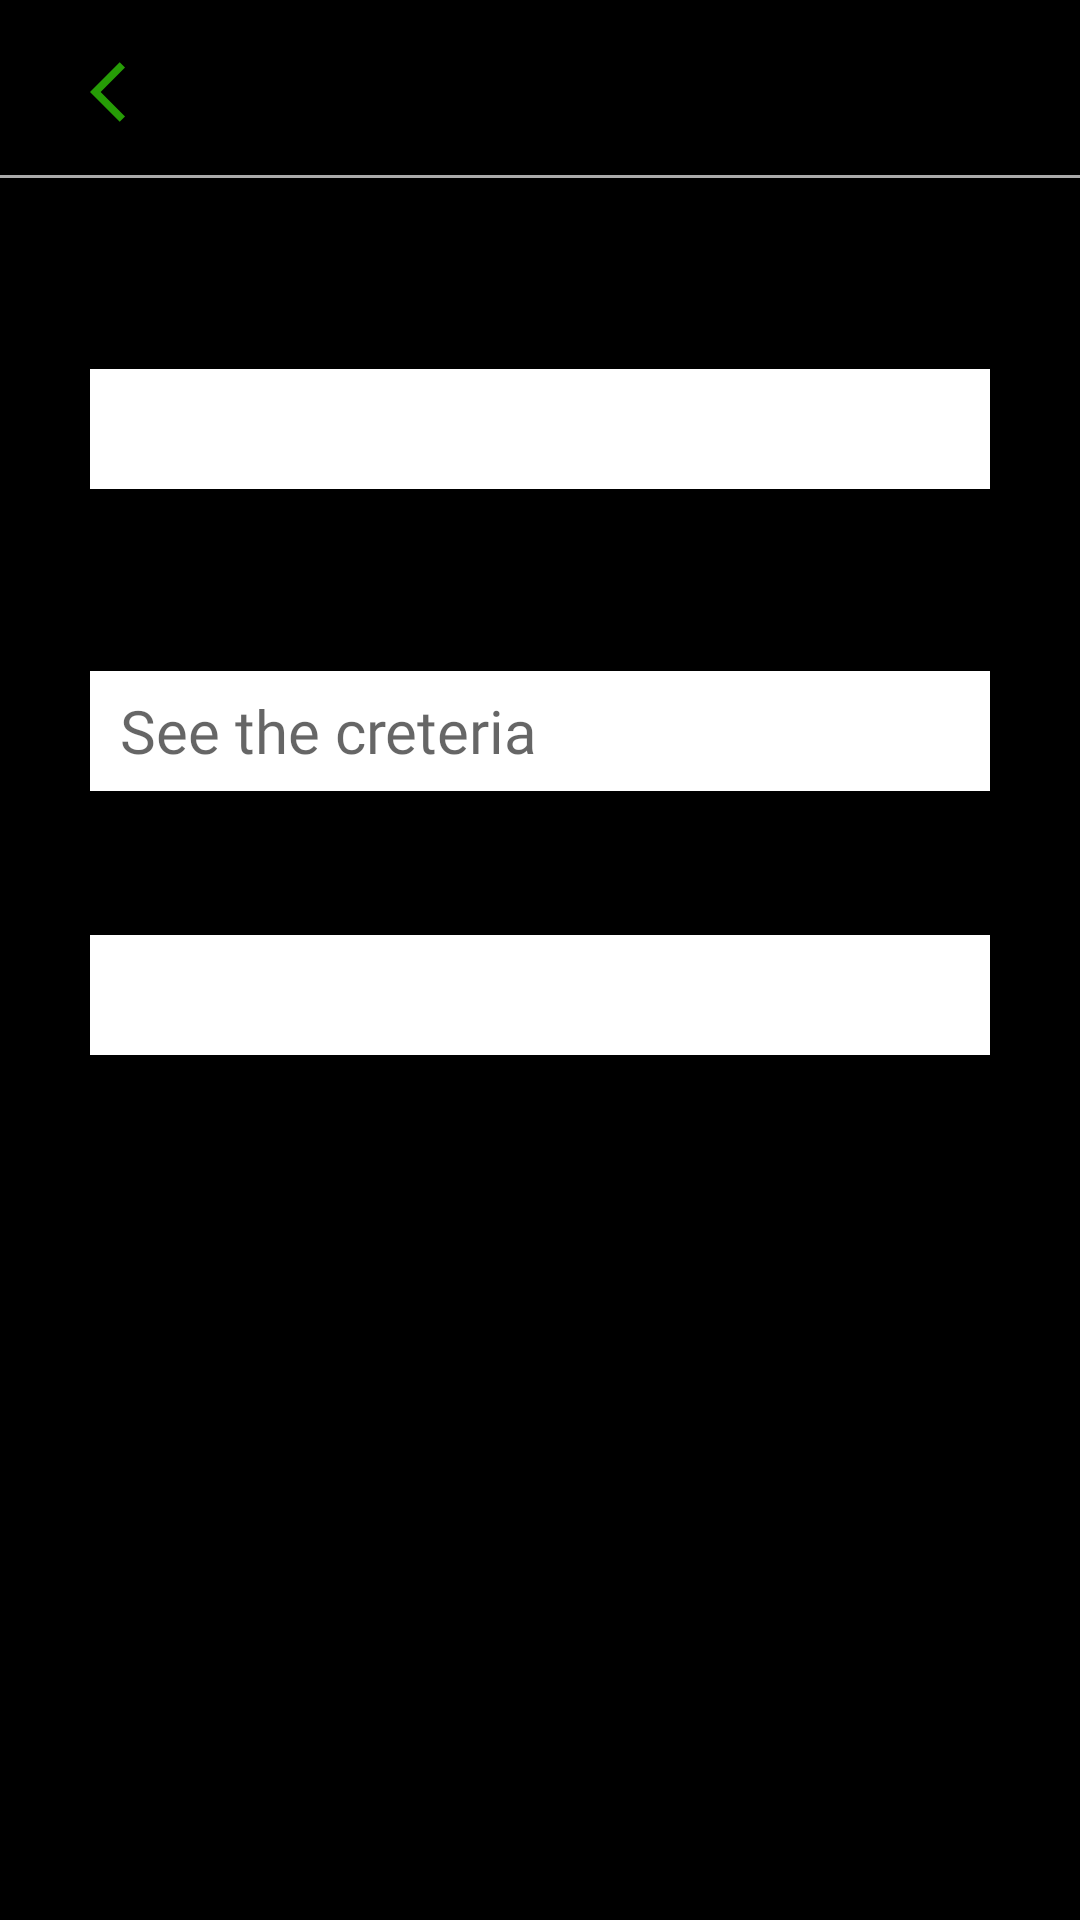

Where to tap for icons on this 1080x1920 app screen, as point (x, y):
arrow back: point (107, 92)
